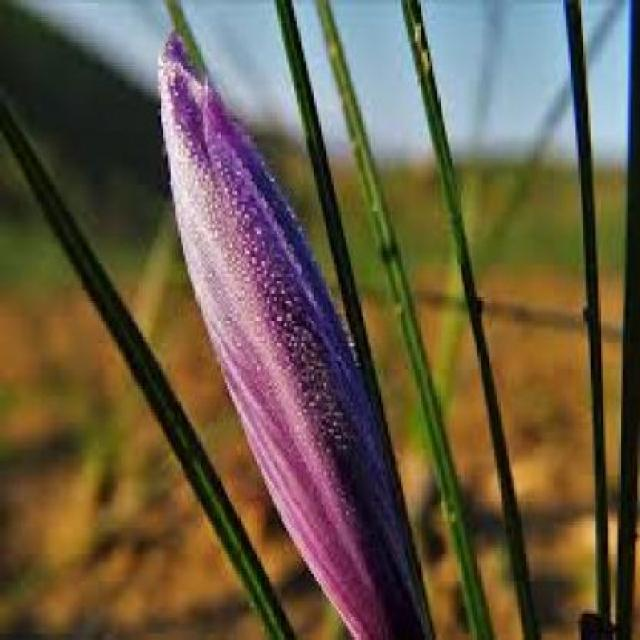Flower: (148, 24, 442, 635)
